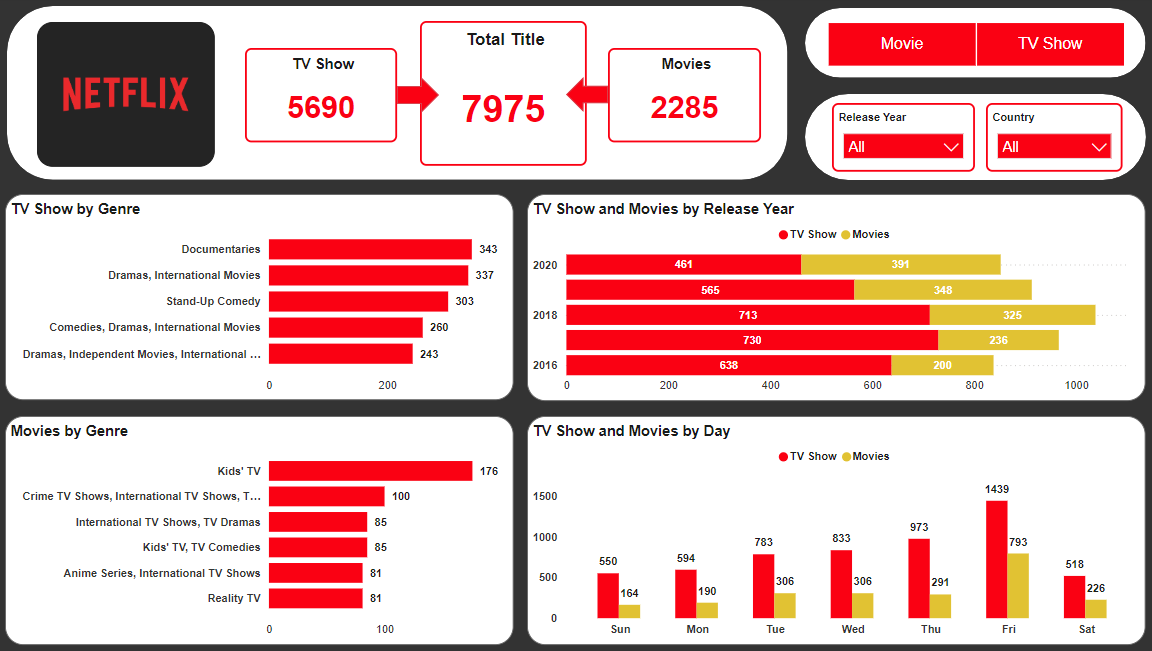

This screenshot's page, from the dashboard's own definition file:
{"tool":"powerbi","page":{"name":" Page 3","canvas":[1280,720],"ordinal":2},"visuals":[{"type":"shape","box":[898.1,105.8,372.1,93.8],"z":0},{"type":"shape","box":[898.1,11.6,371.6,76.1],"z":1000},{"type":"shape","box":[27.1,10.3,851.6,189.7],"z":2000},{"type":"card","title":"Movies","fields":{"Values":["Measures Table.Movies"]},"box":[683.1,55.7,167,102.6],"z":3000},{"type":"card","title":"TV Show","fields":{"Values":["Measures Table.TV Show"]},"box":[287,55.7,165.9,102.6],"z":4000},{"type":"image","box":[60,27.3,194.2,158.2],"z":5000},{"type":"card","title":"Total Title","fields":{"Values":["Measures Table.Total Title"]},"box":[478,26.2,182.2,158.2],"z":6000},{"type":"shape","box":[452.9,87.3,45.8,39.3],"z":7000},{"type":"shape","box":[637.3,87.3,45.8,38.2],"z":8000},{"type":"slicer","title":"Release Year","fields":{"Values":["netflix_titles.release_year"]},"box":[927.5,115.7,156,75.3],"z":9000},{"type":"slicer","title":"Country","fields":{"Values":["netflix_titles.country"]},"box":[1095.6,115.7,149.5,75.3],"z":10000},{"type":"slicer","title":"Type","fields":{"Values":["netflix_titles.type"]},"box":[898.1,19.4,371.6,61.9],"z":13000},{"type":"barChart","title":"TV Show and Movies by Release Year","fields":{"Category":["netflix_titles.release_year"],"Y":["Measures Table.TV Show","Measures Table.Movies"]},"box":[594.8,215.5,674.8,225.8],"z":15001},{"type":"barChart","title":"TV Show by Genre","fields":{"Category":["netflix_titles.listed_in"],"Y":["Measures Table.TV Show"]},"box":[25.5,215.2,555.3,225.4],"z":15002},{"type":"barChart","title":"Movies by Genre","fields":{"Category":["netflix_titles.listed_in"],"Y":["Measures Table.Movies"]},"box":[25.5,457.2,555.3,249.6],"z":15003},{"type":"clusteredColumnChart","fields":{"Category":["netflix_titles.Day"],"Y":["Measures Table.TV Show","Measures Table.Movies"]},"box":[594.8,457.2,675,249.6],"z":15004}]}

Visuals, with their boxes in screenshot pixels (x1, y1, x2, y2), scaled from the page's 1280x720 canvas onto the 1152x651 screenshot:
shape: bbox=(808, 96, 1143, 180)
shape: bbox=(808, 10, 1143, 79)
shape: bbox=(24, 9, 791, 181)
"Movies" card: bbox=(615, 50, 765, 143)
"TV Show" card: bbox=(258, 50, 408, 143)
image: bbox=(54, 25, 229, 168)
"Total Title" card: bbox=(430, 24, 594, 167)
shape: bbox=(408, 79, 449, 114)
shape: bbox=(574, 79, 615, 113)
"Release Year" slicer: bbox=(835, 105, 975, 173)
"Country" slicer: bbox=(986, 105, 1121, 173)
"Type" slicer: bbox=(808, 18, 1143, 74)
"TV Show and Movies by Release Year" barChart: bbox=(535, 195, 1143, 399)
"TV Show by Genre" barChart: bbox=(23, 195, 523, 398)
"Movies by Genre" barChart: bbox=(23, 413, 523, 639)
clusteredColumnChart - netflix_titles.Day x Measures Table.TV Show: bbox=(535, 413, 1143, 639)
